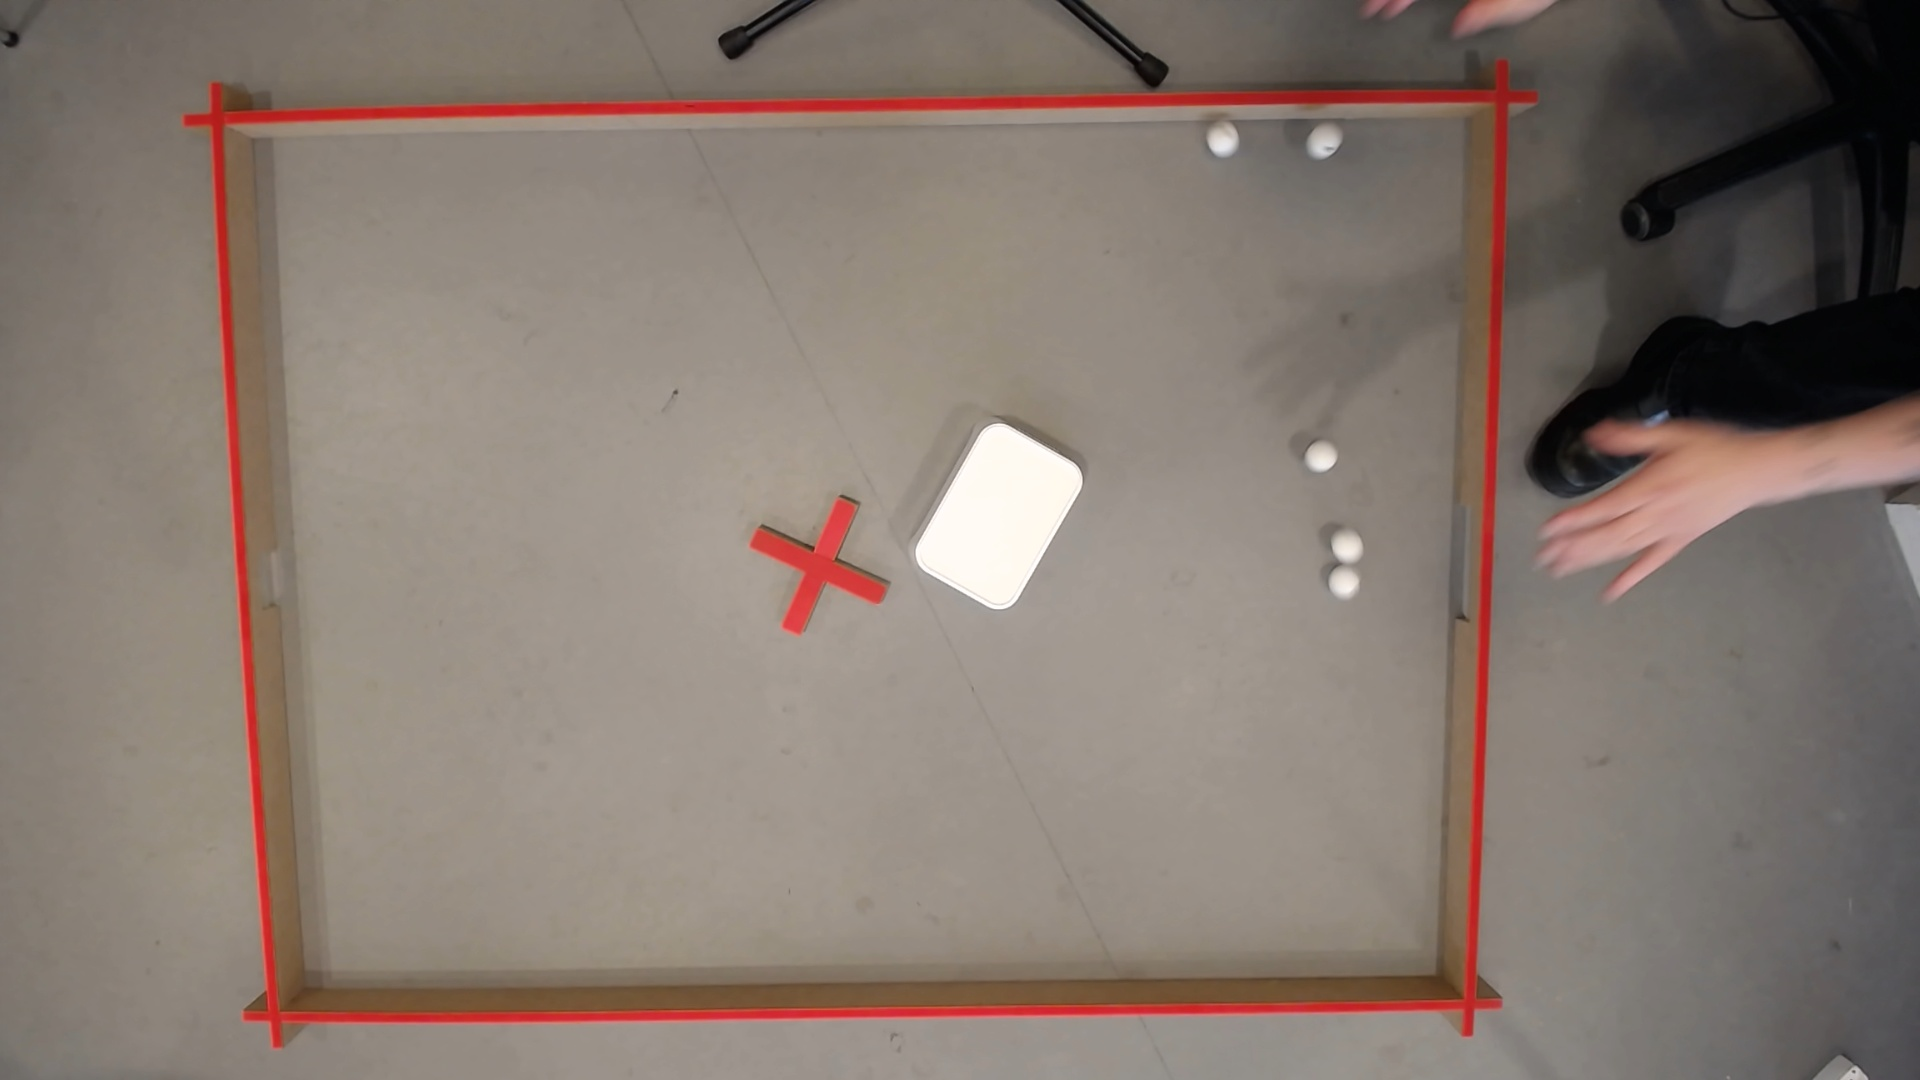balls: (905, 413, 1091, 618), (1325, 564, 1361, 600), (1304, 442, 1338, 475), (1207, 128, 1237, 156), (1332, 537, 1360, 560)
car: (1308, 129, 1337, 158)
